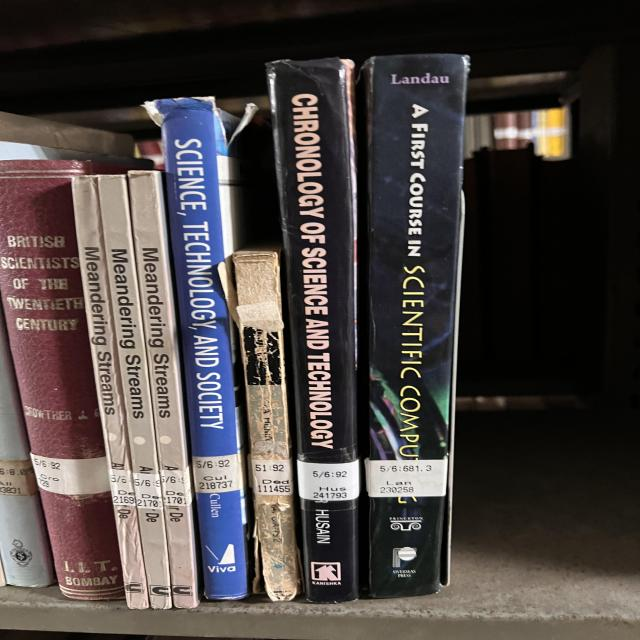Book: (363, 54, 468, 598), (0, 160, 127, 600), (267, 59, 360, 602), (155, 99, 248, 600), (72, 176, 150, 609), (98, 176, 172, 609), (128, 171, 200, 609), (233, 246, 300, 601)
Label: (30, 454, 110, 495), (365, 459, 448, 498), (297, 460, 360, 501), (192, 454, 243, 494), (252, 459, 293, 495), (160, 470, 192, 506), (133, 472, 163, 510), (108, 469, 135, 506)
